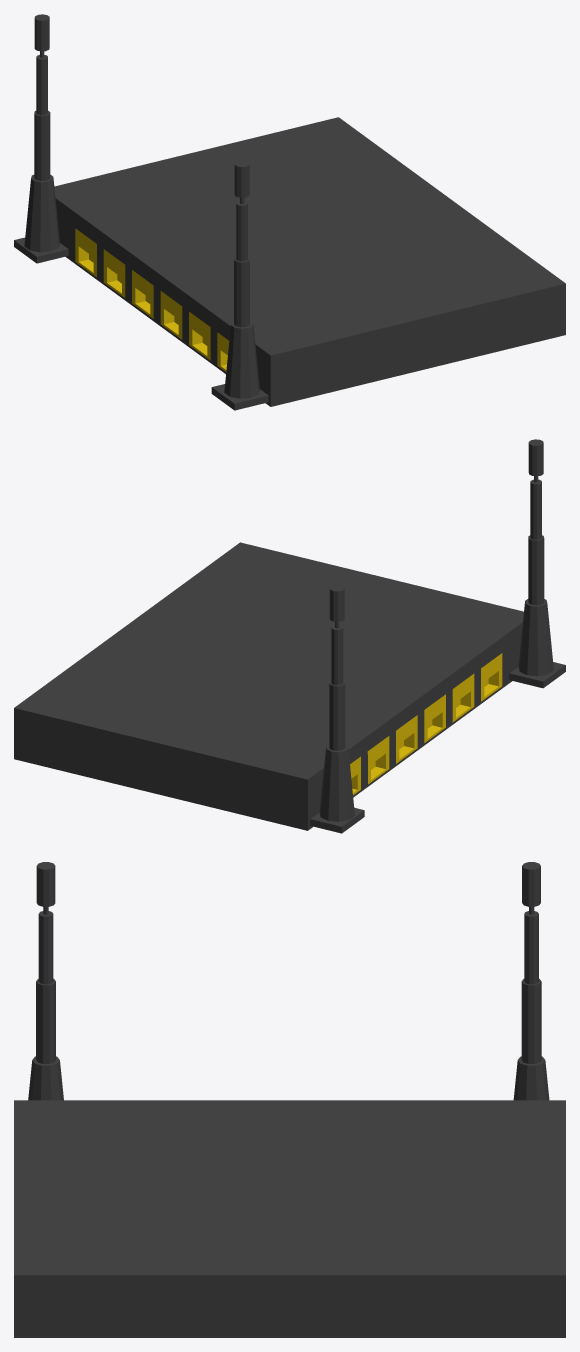
File: Router.fbx
3 renders of one model, top to bottom at view 1: azimuth 30°, elevation 25°; view 2: azimuth 150°, elevation 25°; view 3: azimuth 270°, elevation 25°, orthographic. The views are drawn at different scales.
Visible parts, largest first — view 1: Router; view 2: Router; view 3: Router.
Part boxes in pixels (<box>): Router: <box>14,14,565,410</box>; Router: <box>14,439,565,833</box>; Router: <box>14,862,565,1337</box>.
Size of the model in its own units: 669 by 461 by 800.
